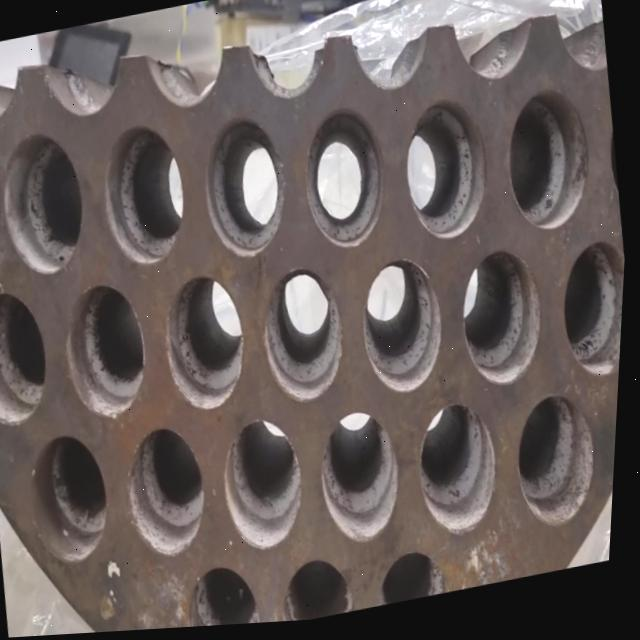Hole: (396, 97, 501, 253), (195, 111, 299, 268), (498, 89, 603, 244), (95, 120, 198, 275), (296, 103, 397, 261), (454, 247, 557, 399), (355, 255, 457, 407), (256, 262, 358, 414), (0, 126, 97, 284), (159, 270, 259, 421), (59, 277, 159, 428), (413, 399, 513, 549), (512, 395, 612, 541), (219, 415, 319, 560), (315, 409, 415, 554), (122, 421, 221, 566), (27, 427, 124, 572), (555, 243, 629, 392), (0, 284, 60, 430), (186, 560, 272, 630), (284, 554, 364, 626)
